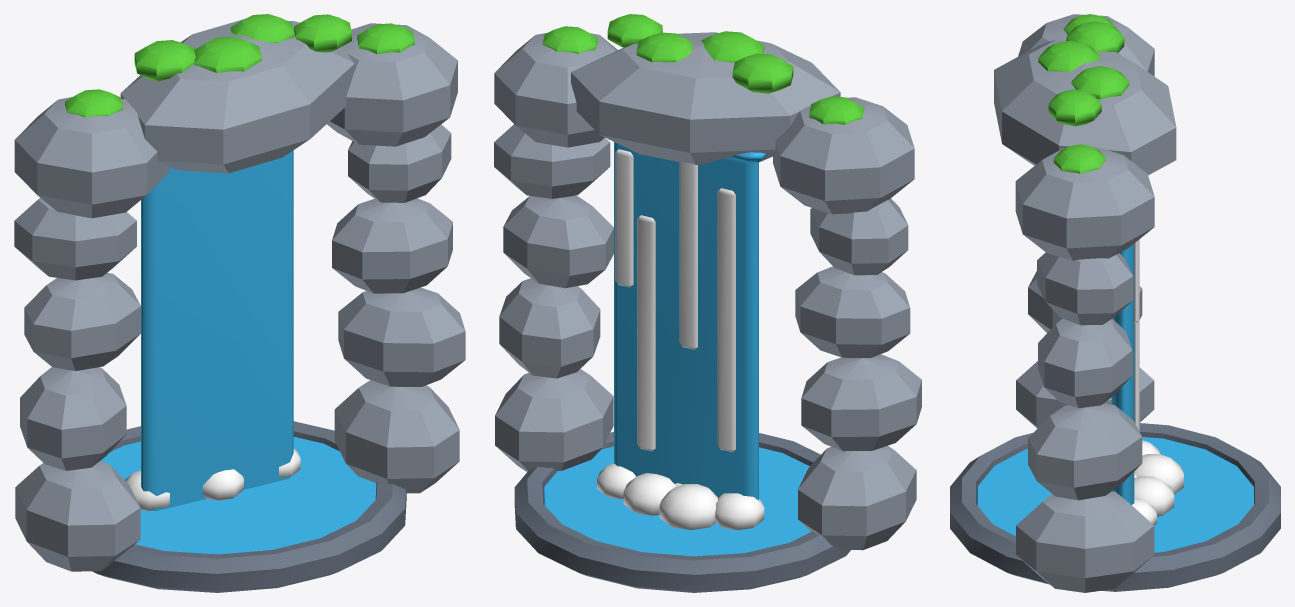
The model's file is Equip_waterfall.glb.
3 renders of one model, left to right at view 1: azimuth 30°, elevation 25°; view 2: azimuth 150°, elevation 25°; view 3: azimuth 270°, elevation 25°, orthographic. The views are drawn at different scales.
Parts seen in each view (by area): view 1: Stone_9AA4B2, Water_38BDF8, DarkStone_6B7686, Grass_5BD43A, Foam_FFFFFF; view 2: Stone_9AA4B2, Water_38BDF8, Foam_FFFFFF, DarkStone_6B7686, Grass_5BD43A; view 3: Stone_9AA4B2, DarkStone_6B7686, Water_38BDF8, Grass_5BD43A, Foam_FFFFFF.
Part boxes in pixels (x1=…): Stone_9AA4B2: x1=14, y1=19, x2=465, y2=571; Water_38BDF8: x1=100, y1=150, x2=376, y2=554; DarkStone_6B7686: x1=92, y1=421, x2=406, y2=592; Grass_5BD43A: x1=65, y1=14, x2=414, y2=117; Foam_FFFFFF: x1=125, y1=448, x2=300, y2=510; Stone_9AA4B2: x1=494, y1=32, x2=921, y2=550; Water_38BDF8: x1=543, y1=142, x2=811, y2=556; Foam_FFFFFF: x1=597, y1=149, x2=764, y2=530; DarkStone_6B7686: x1=514, y1=432, x2=850, y2=592; Grass_5BD43A: x1=542, y1=14, x2=864, y2=124; Stone_9AA4B2: x1=994, y1=14, x2=1176, y2=592; DarkStone_6B7686: x1=950, y1=423, x2=1280, y2=591; Water_38BDF8: x1=977, y1=244, x2=1253, y2=552; Grass_5BD43A: x1=1038, y1=14, x2=1129, y2=173; Foam_FFFFFF: x1=1132, y1=239, x2=1183, y2=525.
Size of the model in its own units: 9.22 by 10.21 by 6.55.
